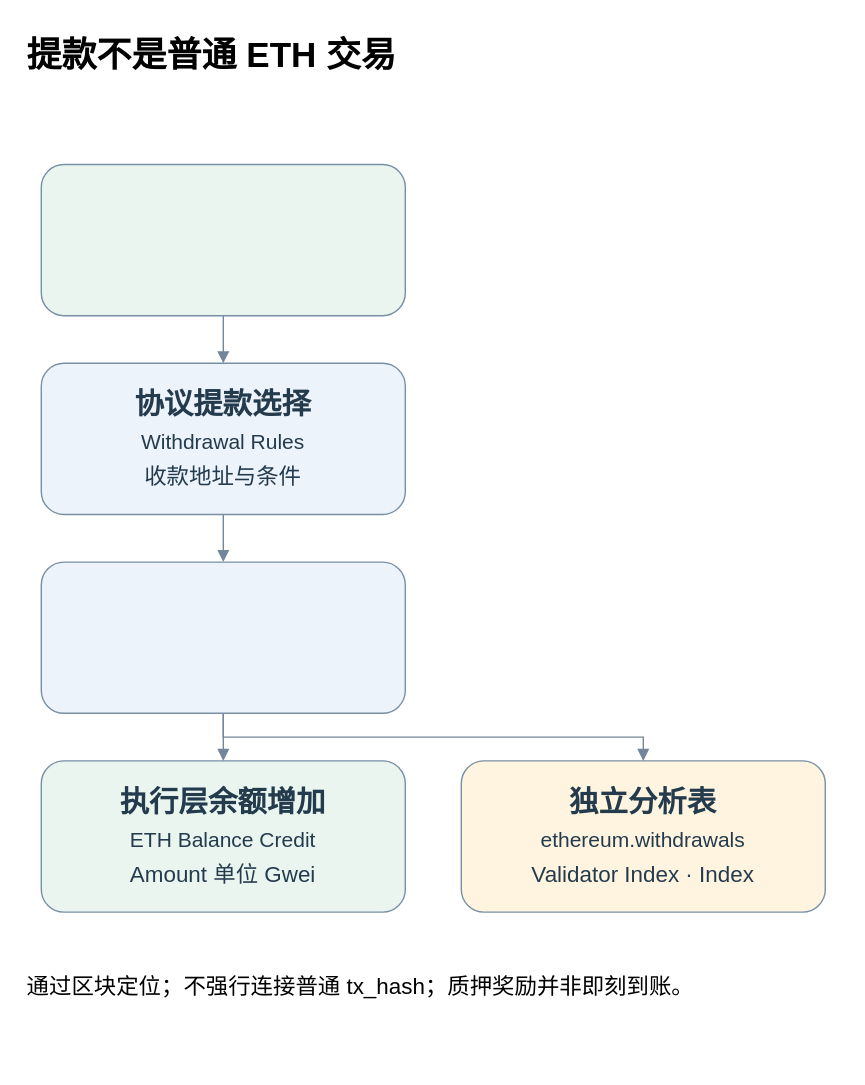
Image size: 865x1085. Some labels were removed from this diagram. The shapes that lost their labels are listed below. From the top down, each one's centre as x and y in pixels, then its label:
At point (222, 239): "共识层余额 Validator Balance 奖励、处罚与退出规则".
At point (222, 637): "载荷中的操作 Withdrawal Operation 没有用户交易签名".
